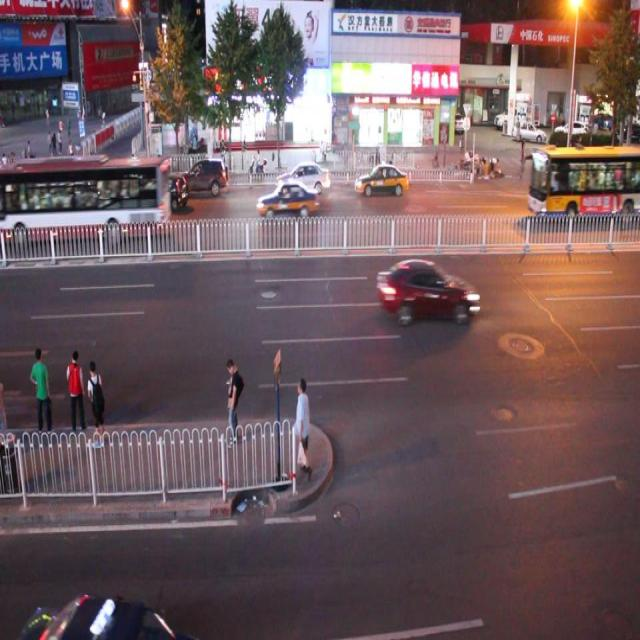car: (1, 155, 172, 242), (12, 591, 207, 640), (375, 256, 480, 322), (256, 180, 318, 217), (354, 161, 408, 199), (277, 159, 330, 195), (39, 182, 92, 216), (183, 157, 228, 196), (150, 173, 188, 209), (0, 174, 16, 209)
van: (526, 141, 640, 225)
